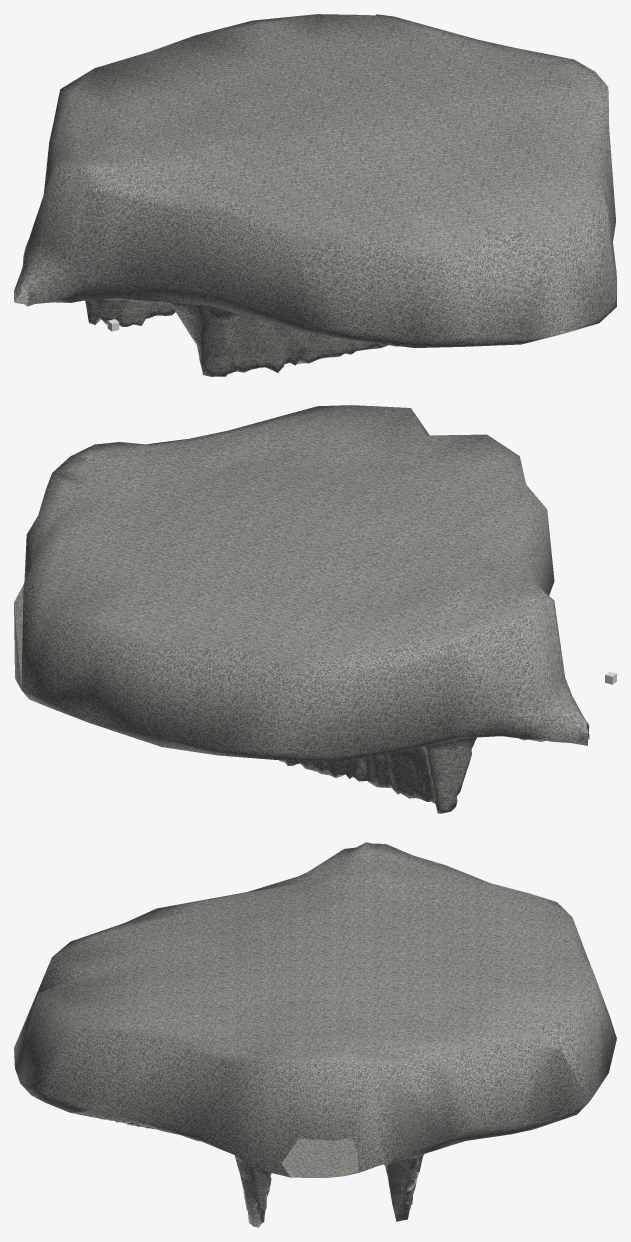
The model's file is Big Cave Flat ground 02.FBX.
The picture shows the model from 3 angles, top to bottom: view 1: azimuth 30°, elevation 25°; view 2: azimuth 150°, elevation 25°; view 3: azimuth 270°, elevation 25°; orthographic projection. The views are drawn at different scales.
Visible parts, largest first — view 1: Big cave walls, Big cave floor first half002; view 2: Big cave walls, Big cave floor first half002; view 3: Big cave walls, Big cave floor second half.
Part boxes in pixels (left/top/right/bottom): Big cave walls: left=14, top=14, right=616, bottom=347; Big cave floor first half002: left=14, top=286, right=398, bottom=376; Big cave walls: left=14, top=405, right=589, bottom=762; Big cave floor first half002: left=278, top=735, right=589, bottom=813; Big cave walls: left=14, top=842, right=616, bottom=1173; Big cave floor second half: left=72, top=1110, right=440, bottom=1227.
Size of the model in its own units: 132619 by 48591 by 137892.
